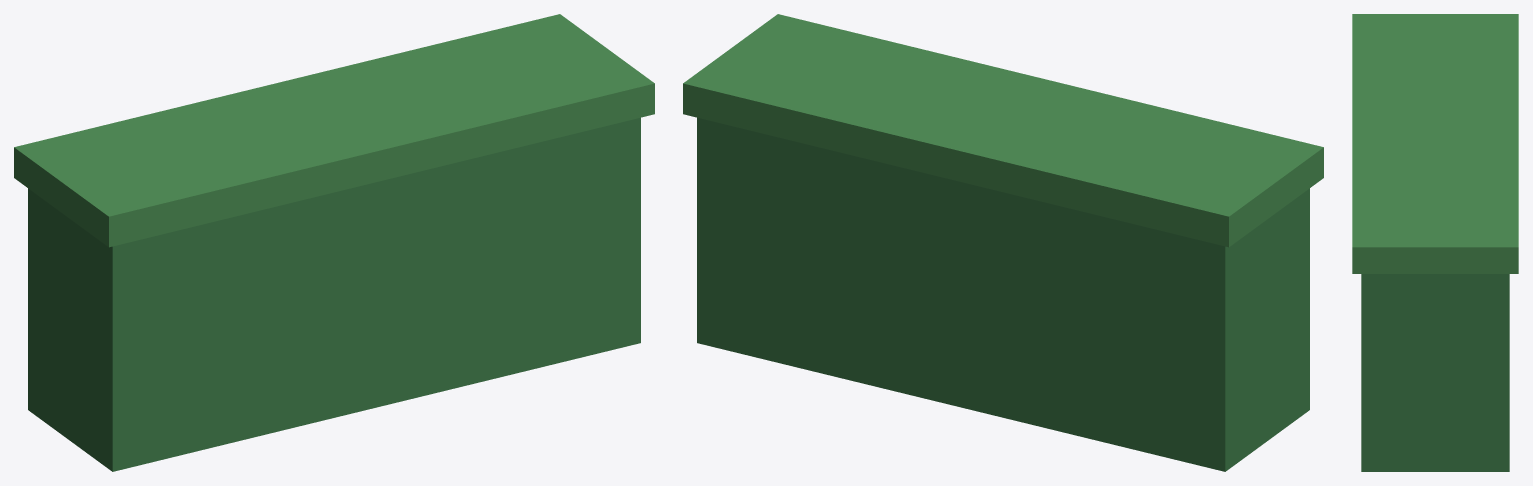
The model's file is hedge.glb.
3 views of the same model, side by side, from view 1: azimuth 30°, elevation 25°; view 2: azimuth 150°, elevation 25°; view 3: azimuth 270°, elevation 25° (orthographic). The views are drawn at different scales.
Visible parts, largest first — view 1: hedge; view 2: hedge; view 3: hedge.
Boxes of the visible parts, x1,y1,x2,y2 form: hedge: [14, 14, 654, 471]; hedge: [683, 14, 1323, 471]; hedge: [1352, 14, 1518, 471].
Size of the model in its own units: 1.86 by 0.85 by 0.56.
